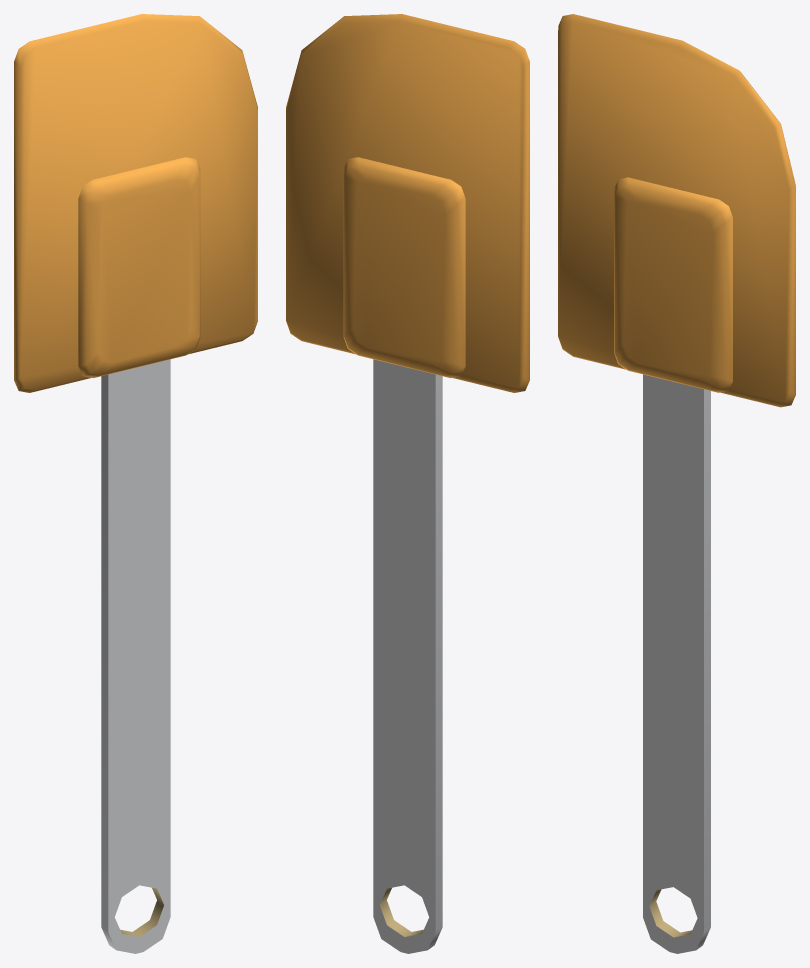
File: cooking_assets_rubber_spatula.glb
The picture shows the model from 3 angles, left to right: view 1: azimuth 30°, elevation 25°; view 2: azimuth 150°, elevation 25°; view 3: azimuth 330°, elevation 25°; orthographic projection. The views are drawn at different scales.
Parts seen in each view (by area): view 1: cutensils_rubber_spatula_w/hole_yellow_Cube.120; view 2: cutensils_rubber_spatula_w/hole_yellow_Cube.120; view 3: cutensils_rubber_spatula_w/hole_yellow_Cube.120.
Boxes of the visible parts, x1,y1,x2,y2 form: cutensils_rubber_spatula_w/hole_yellow_Cube.120: [14, 14, 257, 953]; cutensils_rubber_spatula_w/hole_yellow_Cube.120: [286, 14, 529, 953]; cutensils_rubber_spatula_w/hole_yellow_Cube.120: [558, 14, 795, 953].
Size of the model in its own units: 1.88 by 6.9 by 0.2312.
1 material, 1 textured.
